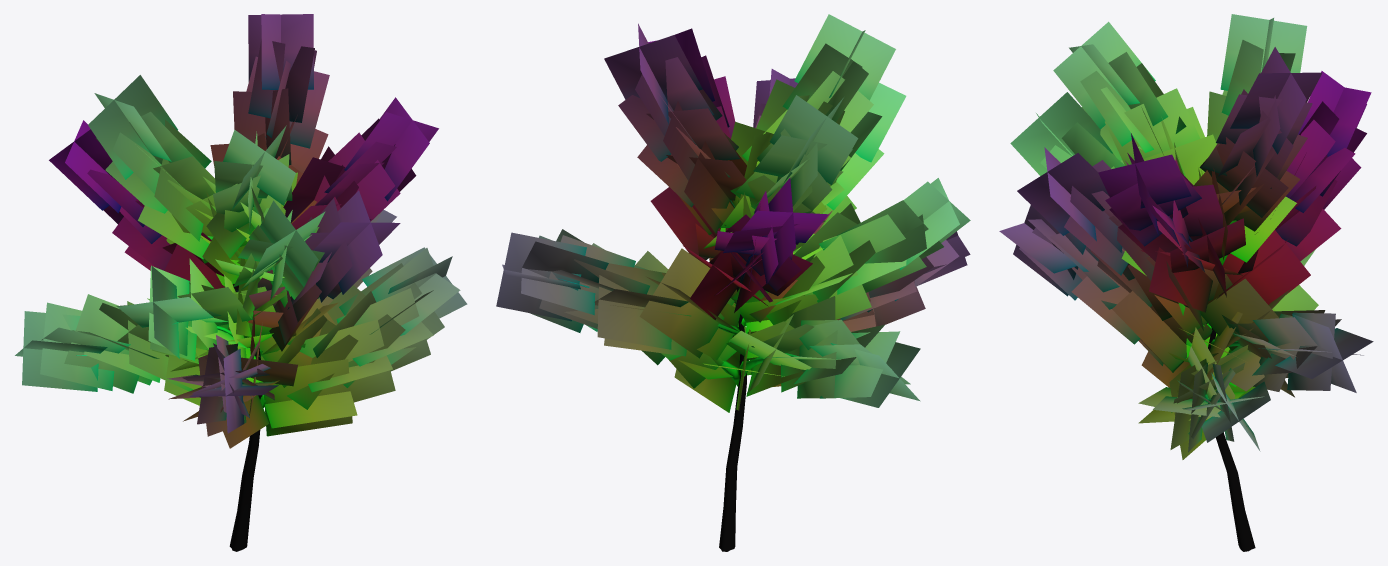
Rendered from URP_P6_Tree_11_LOD_2.fbx.
3 renders of one model, left to right at view 1: azimuth 30°, elevation 25°; view 2: azimuth 150°, elevation 25°; view 3: azimuth 270°, elevation 25°, orthographic.
Parts seen in each view (by area): view 1: Tree_11_LOD_2; view 2: Tree_11_LOD_2; view 3: Tree_11_LOD_2.
Part boxes in pixels (bbox=[...]): Tree_11_LOD_2: bbox=[15, 14, 467, 551]; Tree_11_LOD_2: bbox=[496, 14, 970, 551]; Tree_11_LOD_2: bbox=[999, 14, 1373, 551].
Bounding box in the file's own units: 957 × 1133 × 739.
